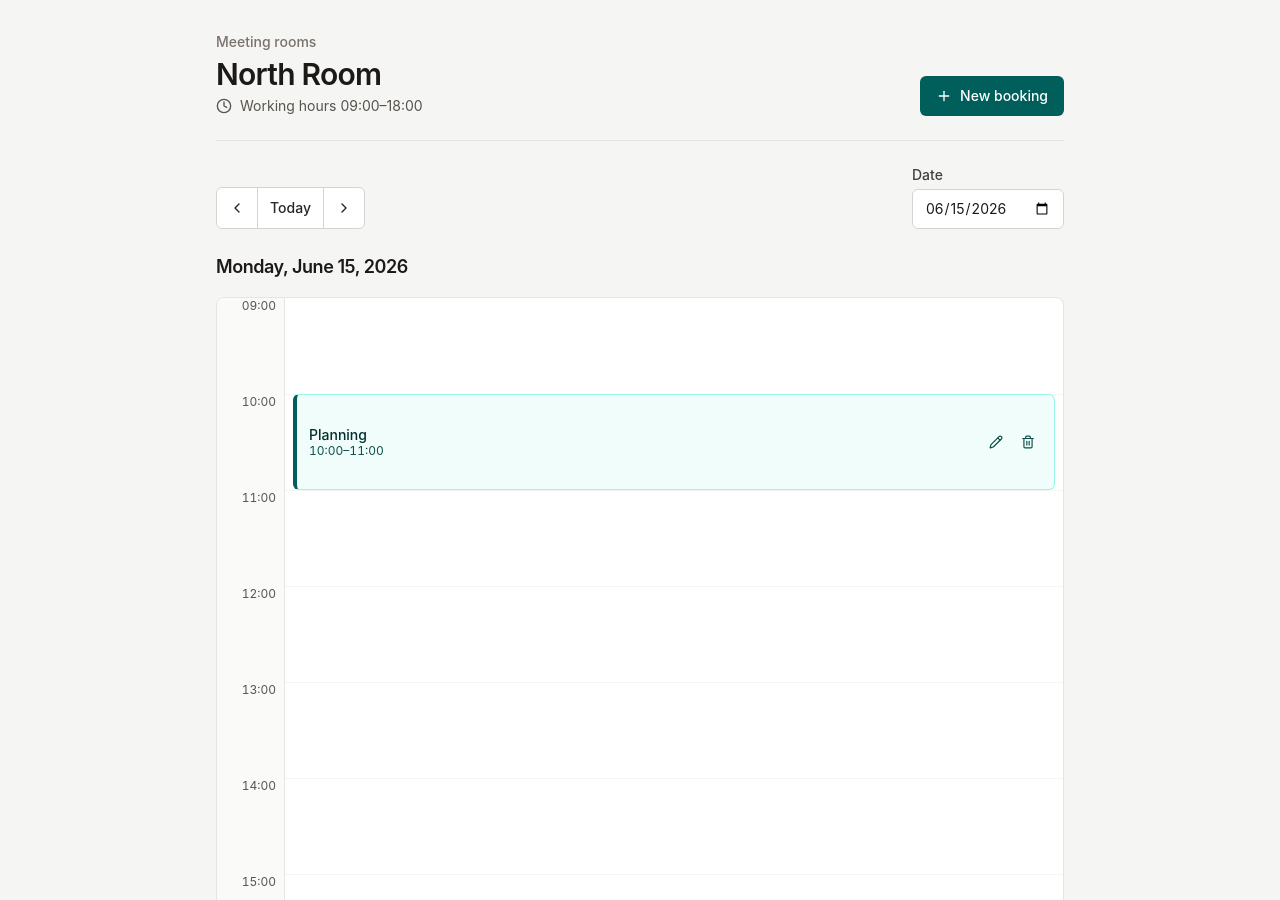
Scenario: booking form › edits a booking without treating it as its own conflict
The image size is (1280, 900).
Check: the text "Planning" is shown, box [309, 426, 367, 443]
Click the button named "Edit Planning, 10:00–11:00" at (996, 442), box [982, 428, 1010, 456]
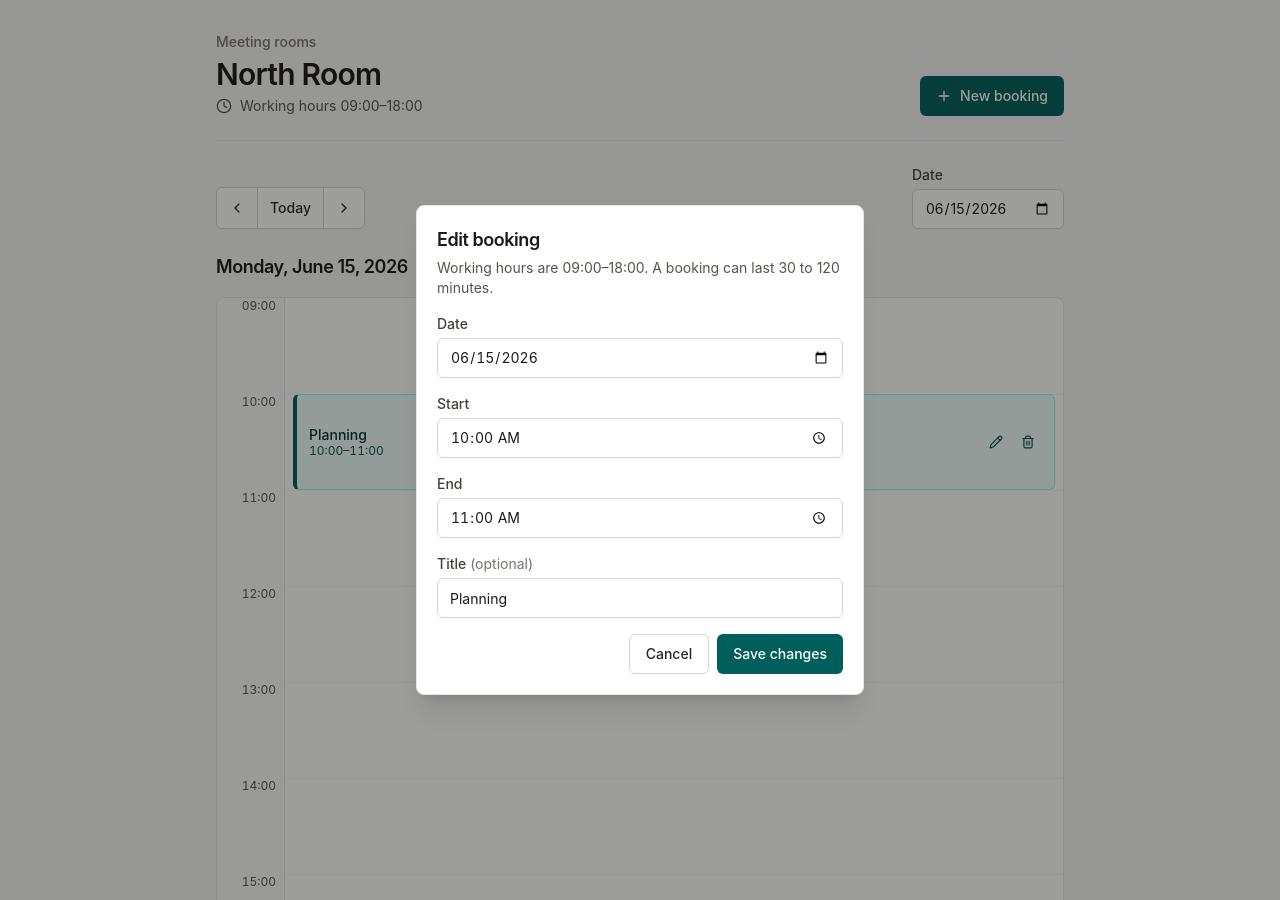
Check: the time field labelled "Start" holds "10:00", box [437, 418, 843, 458]
Check: the time field labelled "End" holds "11:00", box [437, 498, 843, 538]
Check: the field labelled "Title (optional)" holds "Planning"
Replace the text in the field labelled "Title (optional)" with "Planning updated" at (640, 598), box [437, 578, 843, 618]
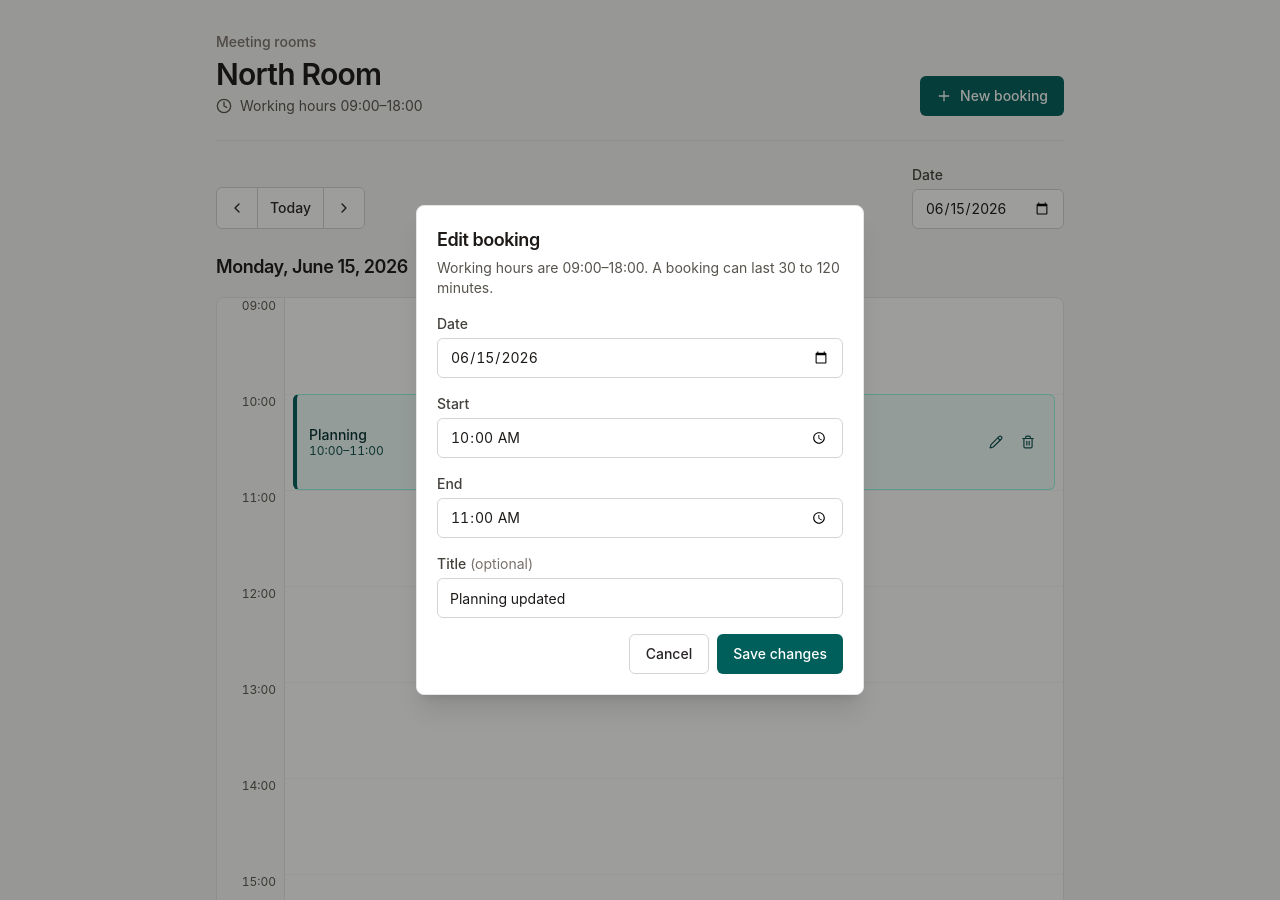
Click the button "Save changes" at (780, 654), box [717, 634, 843, 674]
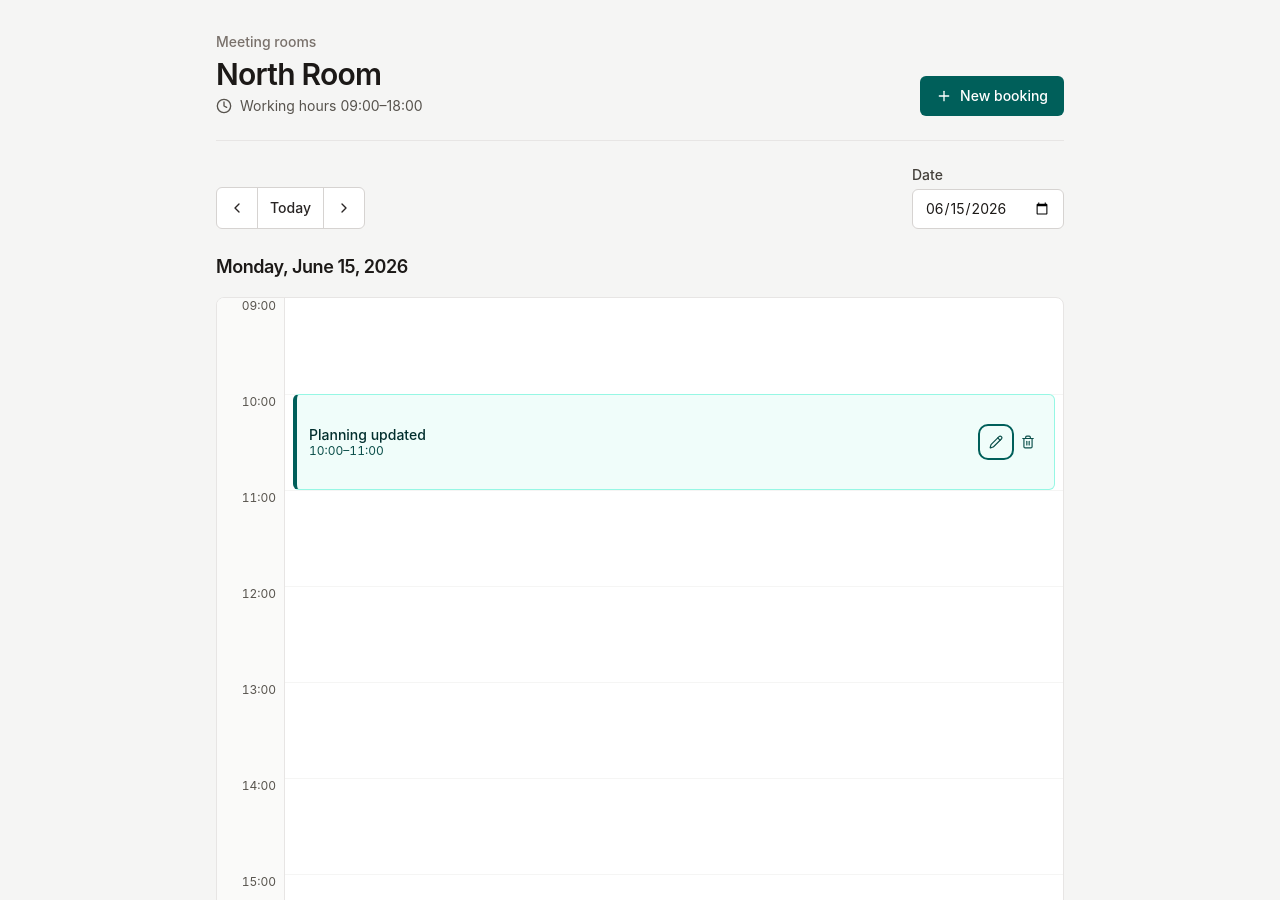
Check: the dialog is gone
Check: the text "Planning updated" is shown, box [309, 426, 426, 443]
